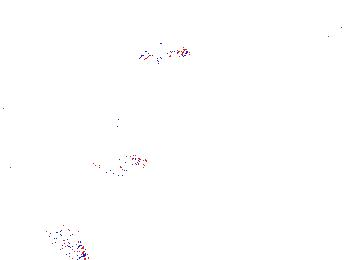X-ray fish: (44, 225, 93, 258), (94, 156, 146, 177), (323, 20, 346, 49)
red belly glassfish: (141, 47, 191, 61)
redtail glassfish: (105, 113, 173, 147)
